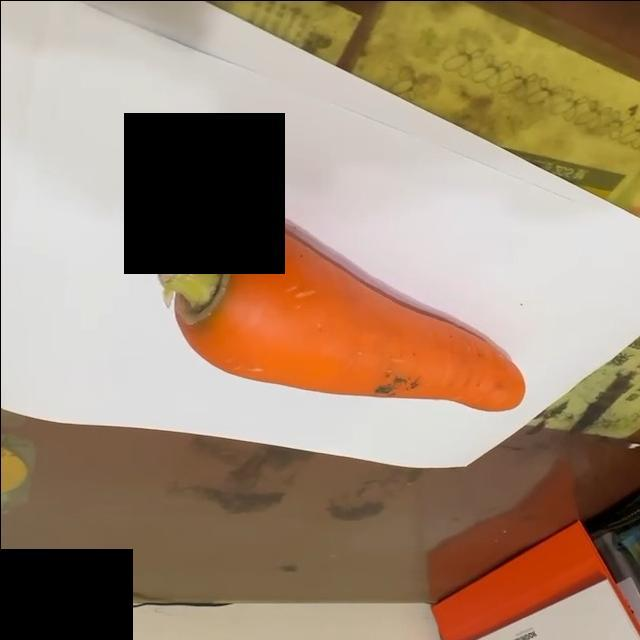carrot: (161, 221, 526, 413)
